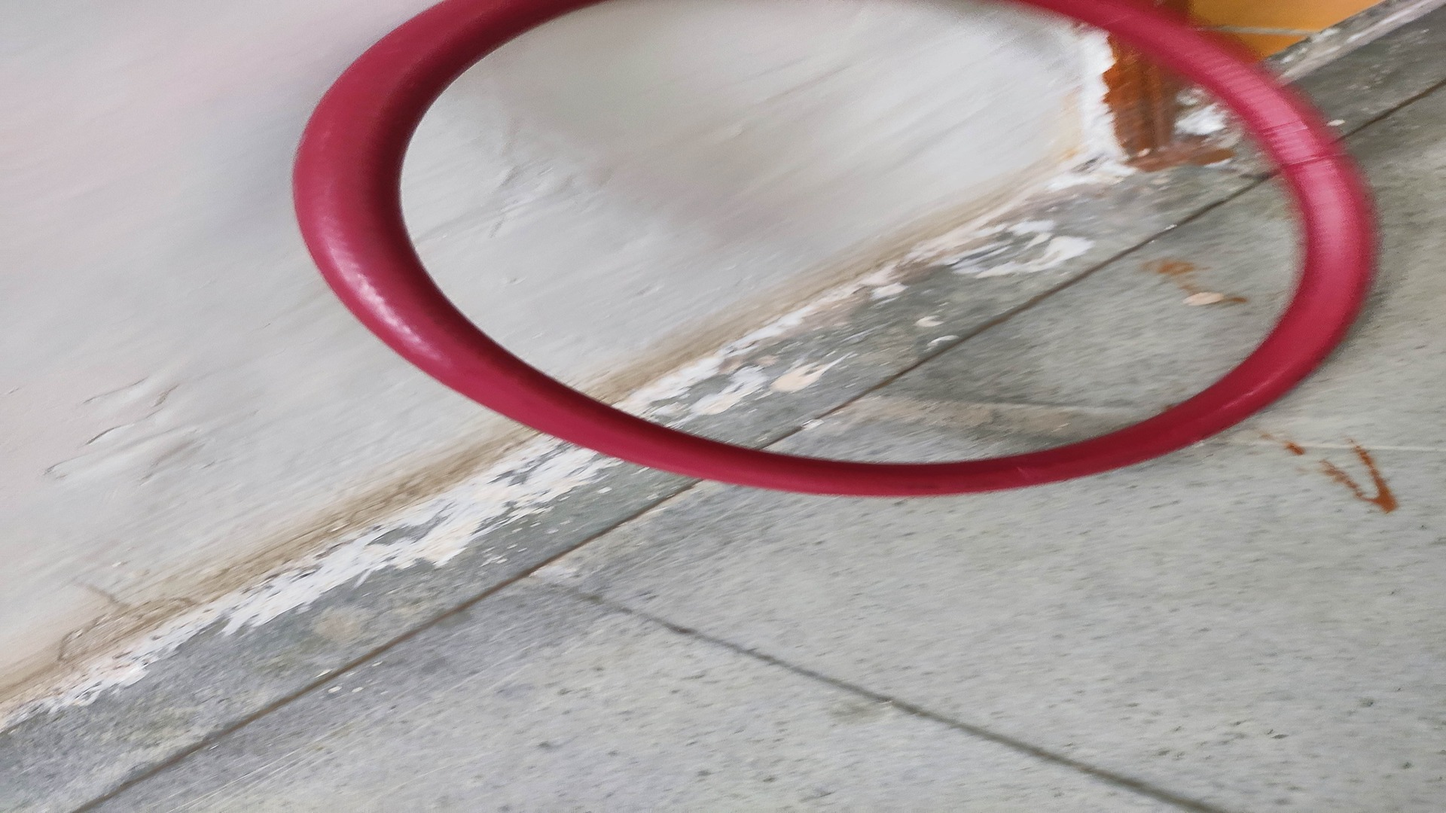Red ring: (291, 10, 1373, 502)
